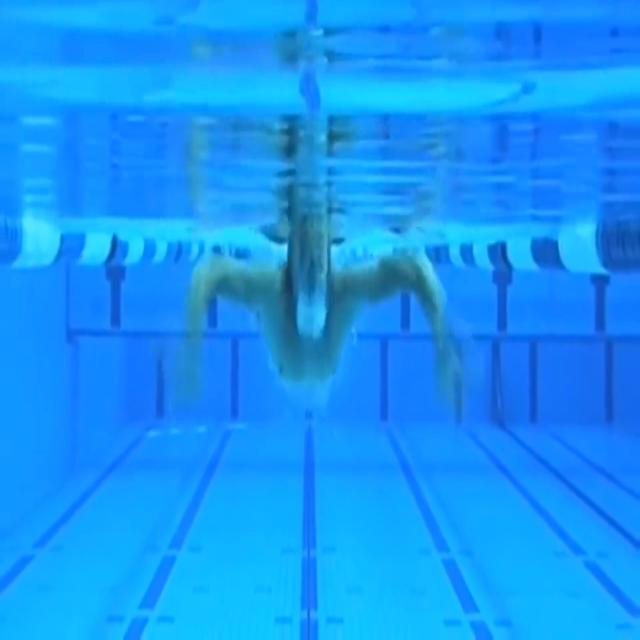Swimming: (179, 238, 461, 416)
